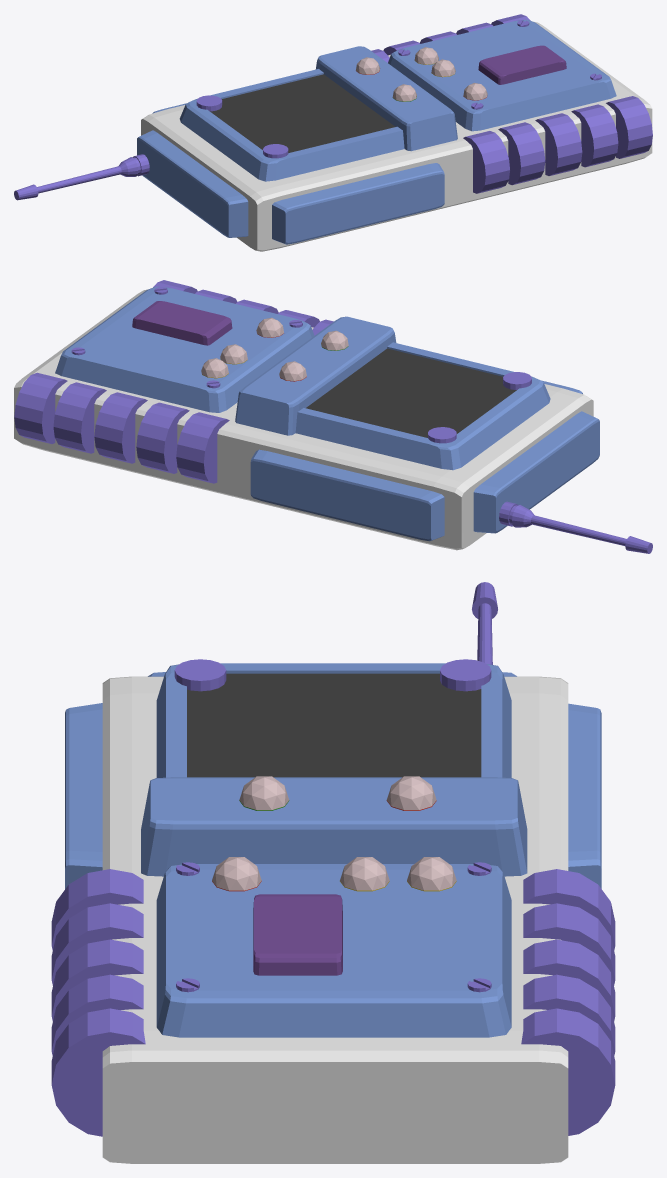
The model's file is GPS.fbx.
3 views of the same model, one above another, from view 1: azimuth 30°, elevation 25°; view 2: azimuth 150°, elevation 25°; view 3: azimuth 270°, elevation 25° (orthographic). The views are drawn at different scales.
Parts seen in each view (by area): view 1: Cube.1756; view 2: Cube.1756; view 3: Cube.1756.
Part boxes in pixels (box(x1,y1,x2,y2)): Cube.1756: box(14, 14, 652, 251); Cube.1756: box(14, 280, 652, 553); Cube.1756: box(51, 582, 615, 1163).
Bounding box in the file's own units: 8207 × 1392 × 3709.
